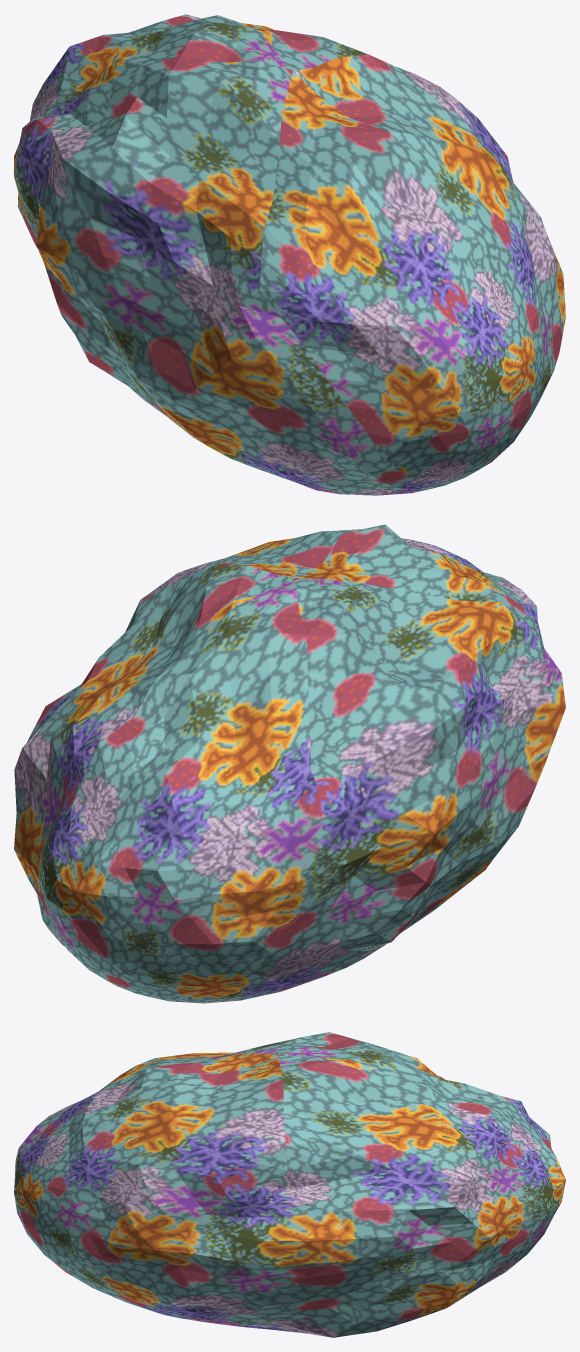
File: RiffStein.fbx
3 renders of one model, top to bottom at view 1: azimuth 30°, elevation 25°; view 2: azimuth 150°, elevation 25°; view 3: azimuth 270°, elevation 25°, orthographic. The views are drawn at different scales.
Visible parts, largest first — view 1: Icosphere; view 2: Icosphere; view 3: Icosphere.
Part boxes in pixels (<box>): Icosphere: <box>14,14,565,495</box>; Icosphere: <box>14,524,565,1003</box>; Icosphere: <box>14,1032,565,1337</box>.
Bounding box in the file's own units: 491 × 426 × 813.
